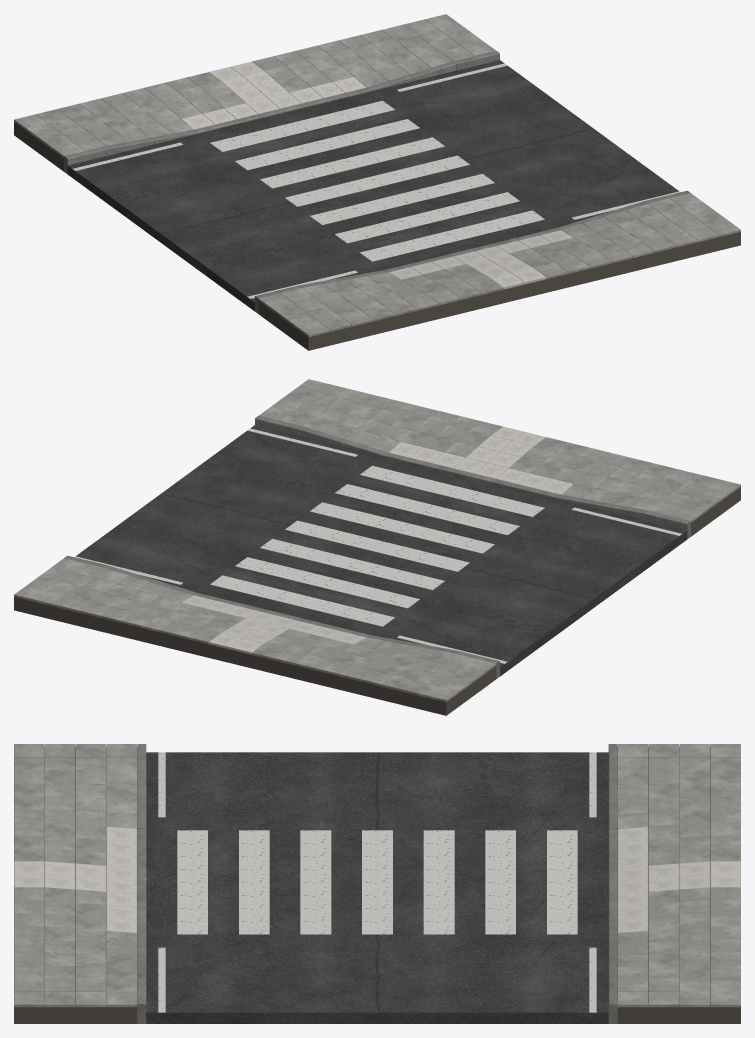
Rendered from road-crosswalk.glb.
3 views of the same model, one above another, from view 1: azimuth 30°, elevation 25°; view 2: azimuth 150°, elevation 25°; view 3: azimuth 270°, elevation 25° (orthographic). The views are drawn at different scales.
Visible parts, largest first — view 1: road-crosswalk_asphalt, road-crosswalk_paving_slabs, road-crosswalk_road_marking, road-crosswalk_bedding, road-crosswalk_curb; view 2: road-crosswalk_asphalt, road-crosswalk_paving_slabs, road-crosswalk_road_marking, road-crosswalk_bedding, road-crosswalk_curb; view 3: road-crosswalk_asphalt, road-crosswalk_paving_slabs, road-crosswalk_road_marking, road-crosswalk_bedding, road-crosswalk_curb.
Boxes of the visible parts, x1,y1,x2,y2 form: road-crosswalk_asphalt: (67, 60, 678, 311); road-crosswalk_paving_slabs: (14, 14, 740, 337); road-crosswalk_road_marking: (73, 63, 680, 298); road-crosswalk_bedding: (14, 122, 740, 350); road-crosswalk_curb: (64, 50, 690, 313); road-crosswalk_asphalt: (76, 425, 687, 676); road-crosswalk_paving_slabs: (14, 379, 740, 702); road-crosswalk_road_marking: (74, 428, 681, 663); road-crosswalk_bedding: (14, 487, 740, 715); road-crosswalk_curb: (64, 415, 690, 678); road-crosswalk_asphalt: (146, 752, 608, 1023); road-crosswalk_paving_slabs: (14, 744, 740, 1006); road-crosswalk_road_marking: (158, 752, 596, 1012); road-crosswalk_bedding: (14, 747, 740, 1023); road-crosswalk_curb: (137, 744, 617, 1023).
Size of the model in its own units: 10 by 0.3524 by 11.8.
6 materials, 5 textured.
